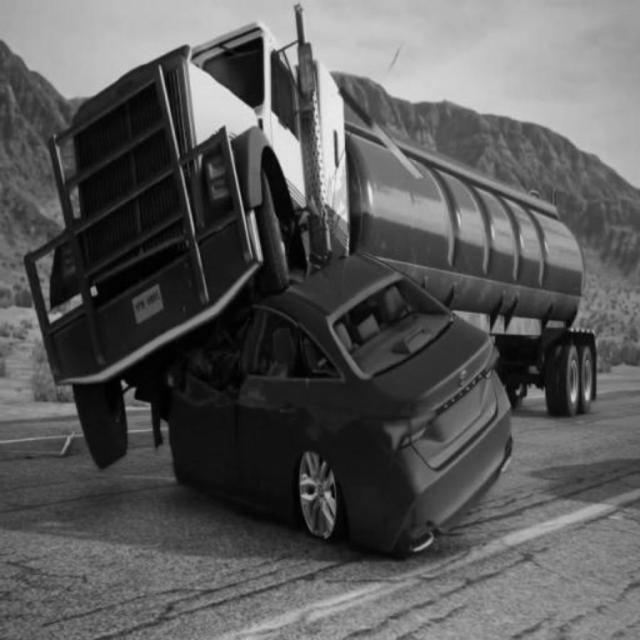accident: (30, 20, 608, 558)
